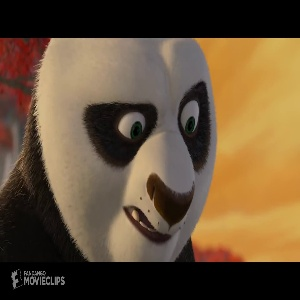po: (10, 37, 216, 262)
